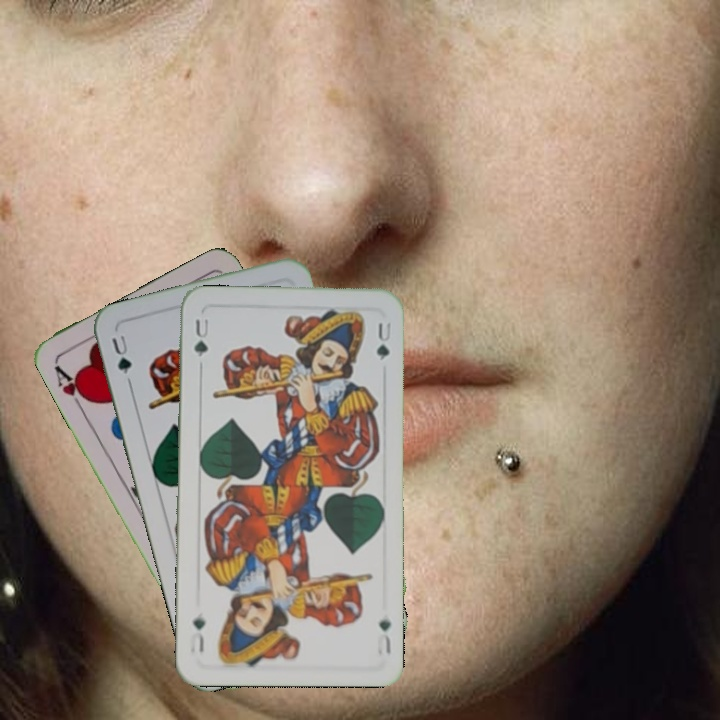GU: (107, 331, 135, 377), (190, 314, 210, 359), (375, 615, 394, 657)
HA: (50, 360, 94, 413)
